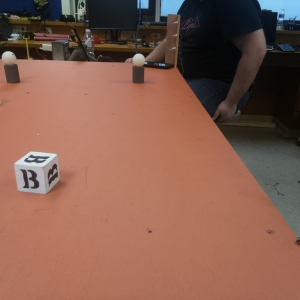blockB: (15, 149, 61, 191)
corner: (165, 15, 178, 62)
obstacle: (3, 51, 20, 83), (132, 54, 148, 82)
